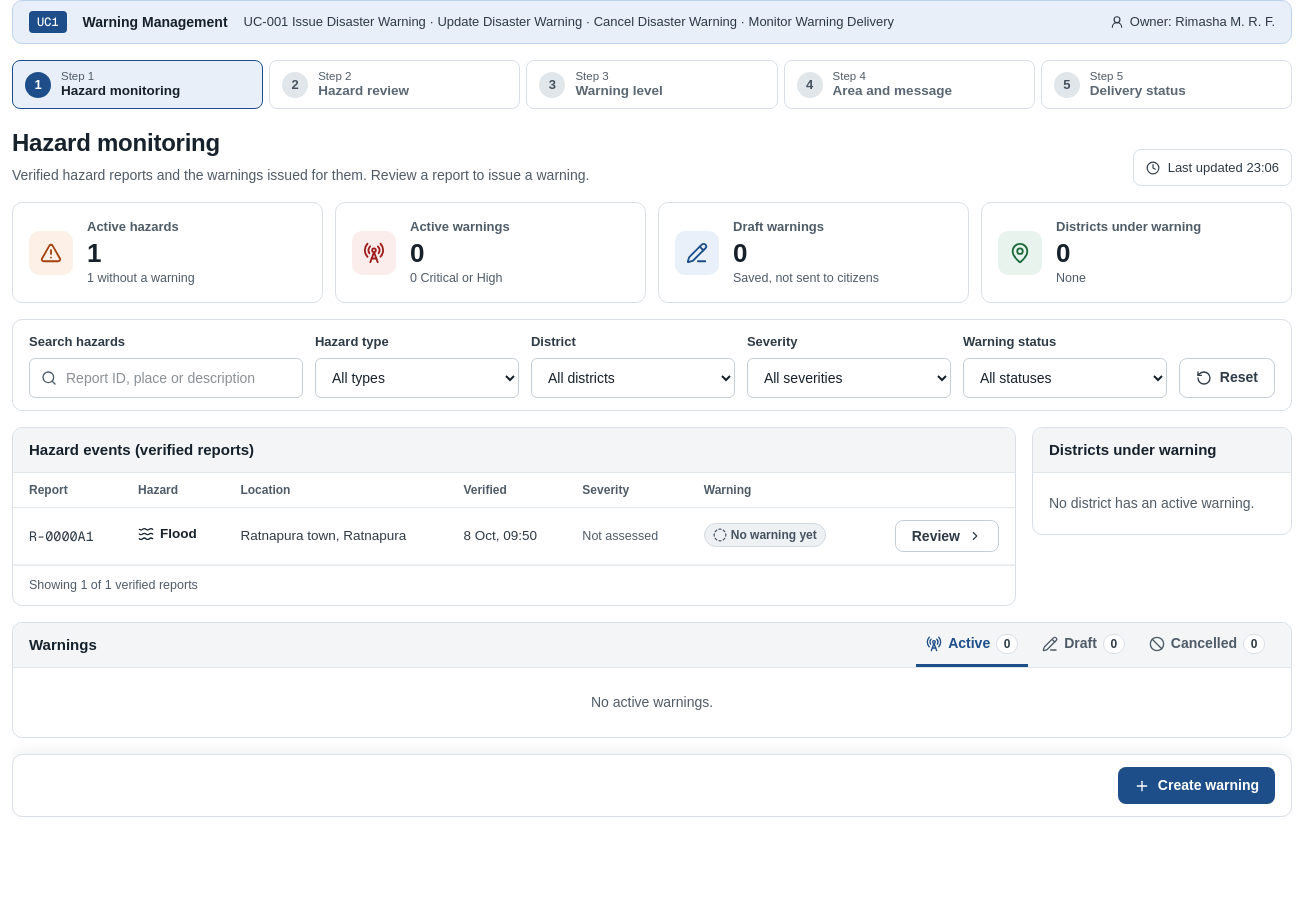
Test: WarningWorkflow › goes from monitoring to review to the warning level step
This screenshot has width=1304, height=900.
Expected: the heading "Hazard monitoring" is shown, [12,129,220,156]
Expected: the text "Ratnapura town, Ratnapura" is shown, [224,508,447,565]
Click the button with aria-label "Review R-0000A1" at (947, 536), box [895,520,999,552]
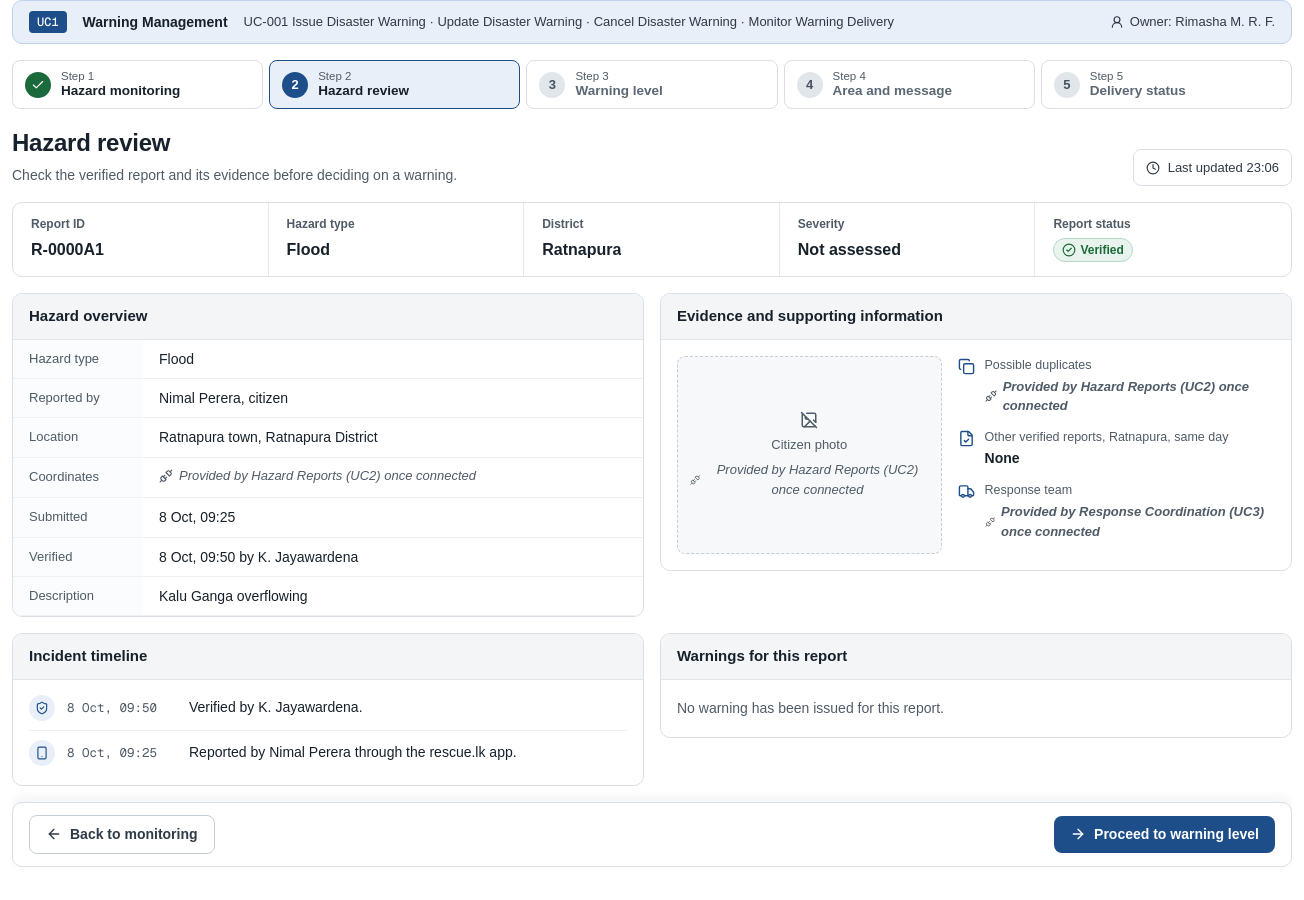
Result: the heading "Hazard review" is shown at [12,129,170,156]
Result: the text "Reported by Nimal Perera through the rescue.lk app." is shown at [189,744,517,760]
Click the button "Proceed to warning level" at (1165, 834), box [1054,816,1275,853]
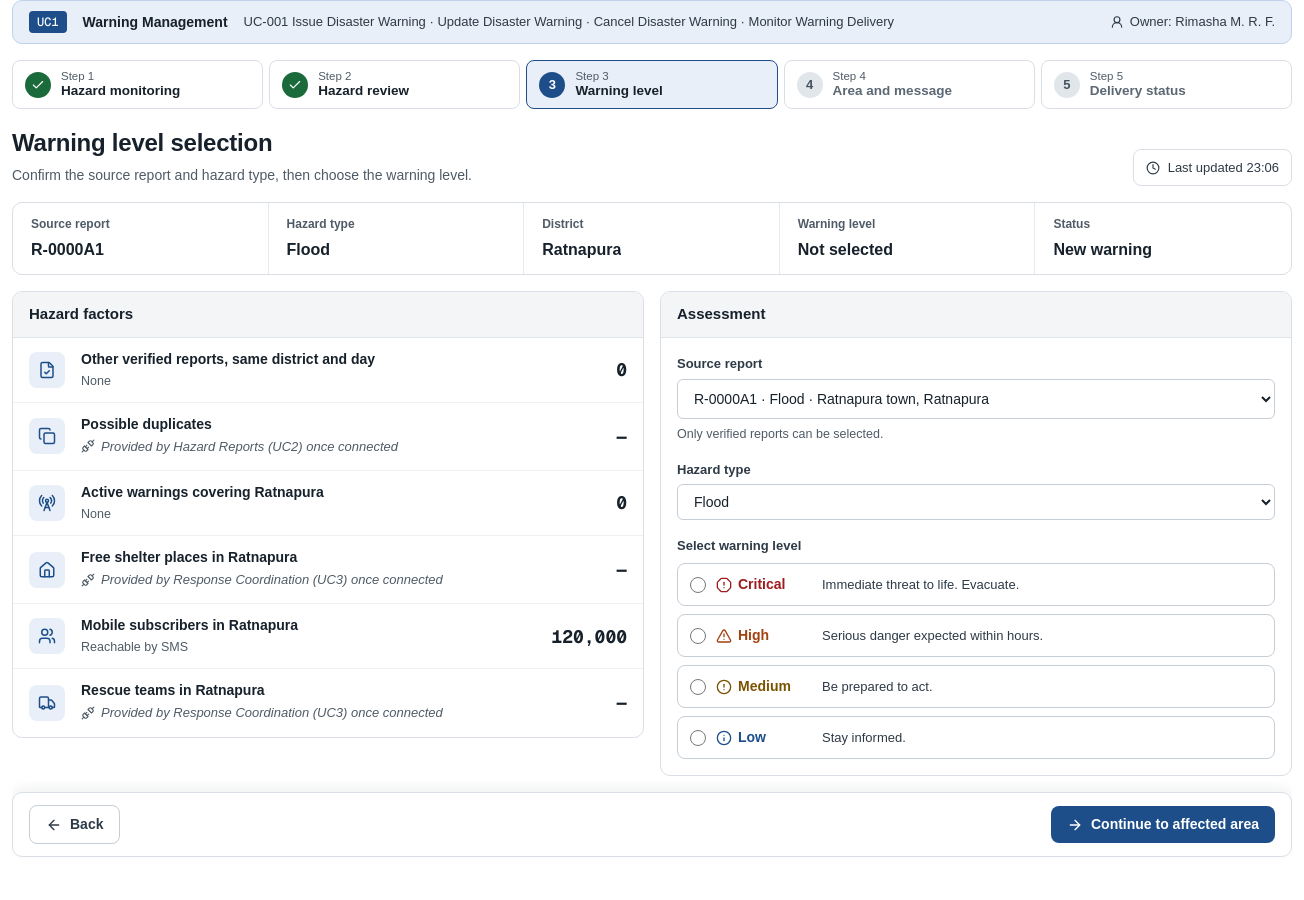
Result: the heading "Warning level selection" is shown at [12,129,272,156]
Result: the dropdown labelled "Source report" shows "R-0000A1 · Flood · Ratnapura town, Ratnapura" at [677,379,1275,419]
Result: the text "120,000" is shown at [551,623,627,650]
